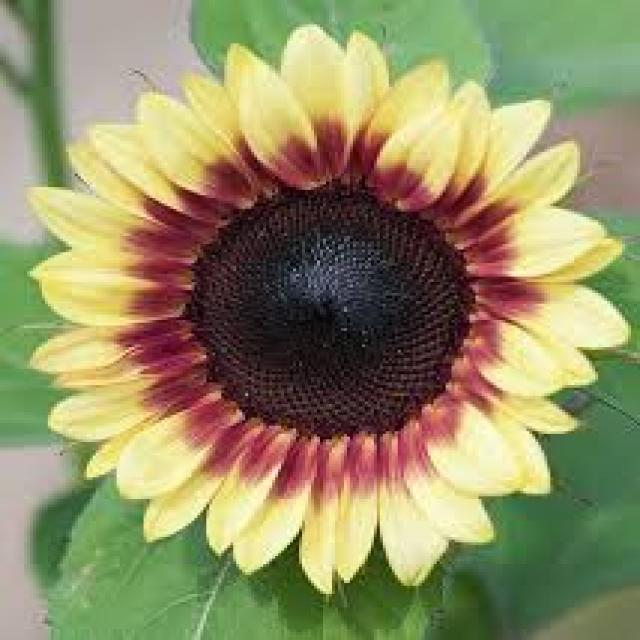sunflower: (18, 19, 640, 600)
